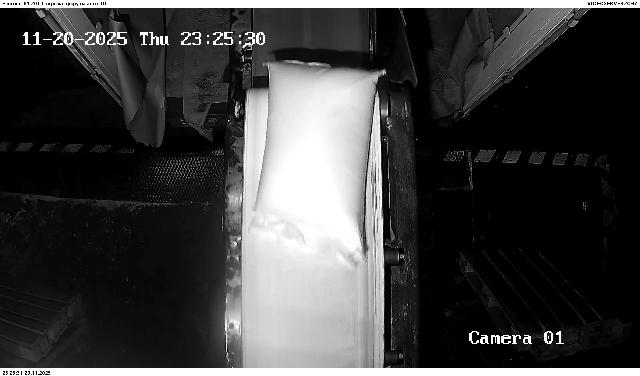bag: (244, 60, 387, 257)
